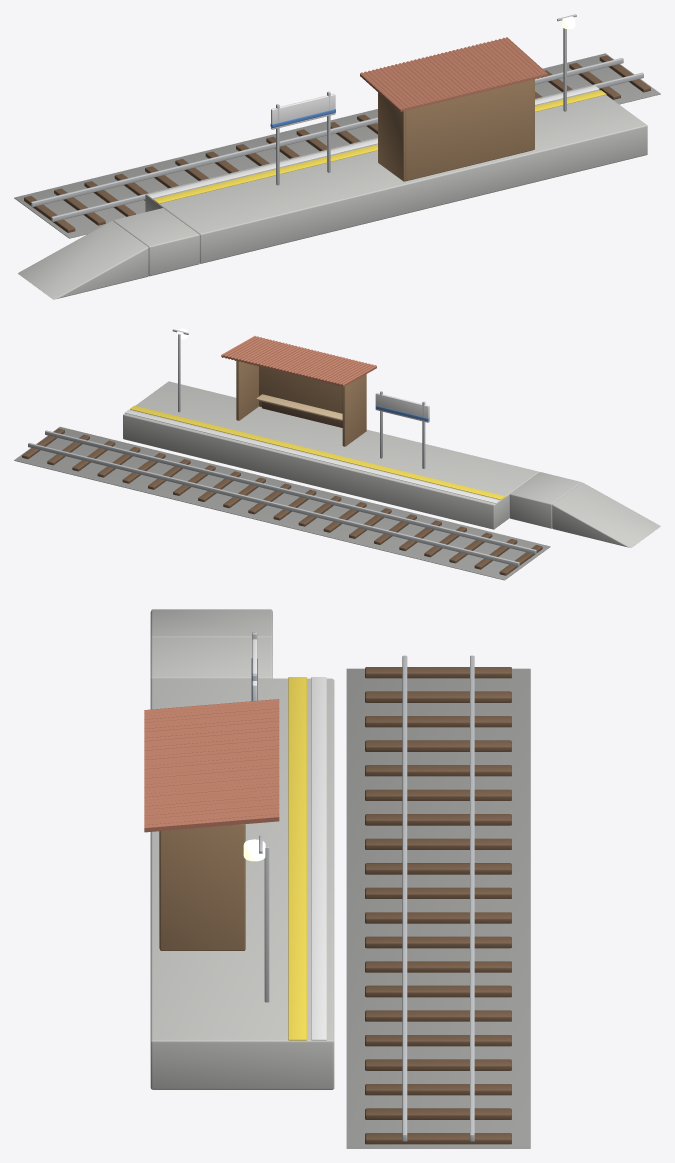
File: eki.glb
3 views of the same model, one above another, from view 1: azimuth 30°, elevation 25°; view 2: azimuth 150°, elevation 25°; view 3: azimuth 270°, elevation 25° (orthographic). The views are drawn at different scales.
Visible parts, largest first — view 1: eki; view 2: eki; view 3: eki.
Boxes of the visible parts, x1,y1,x2,y2 form: eki: (14,14,660,299); eki: (14,328,660,580); eki: (144,609,530,1148).
Size of the model in its own units: 20.83 by 3.76 by 6.3.
